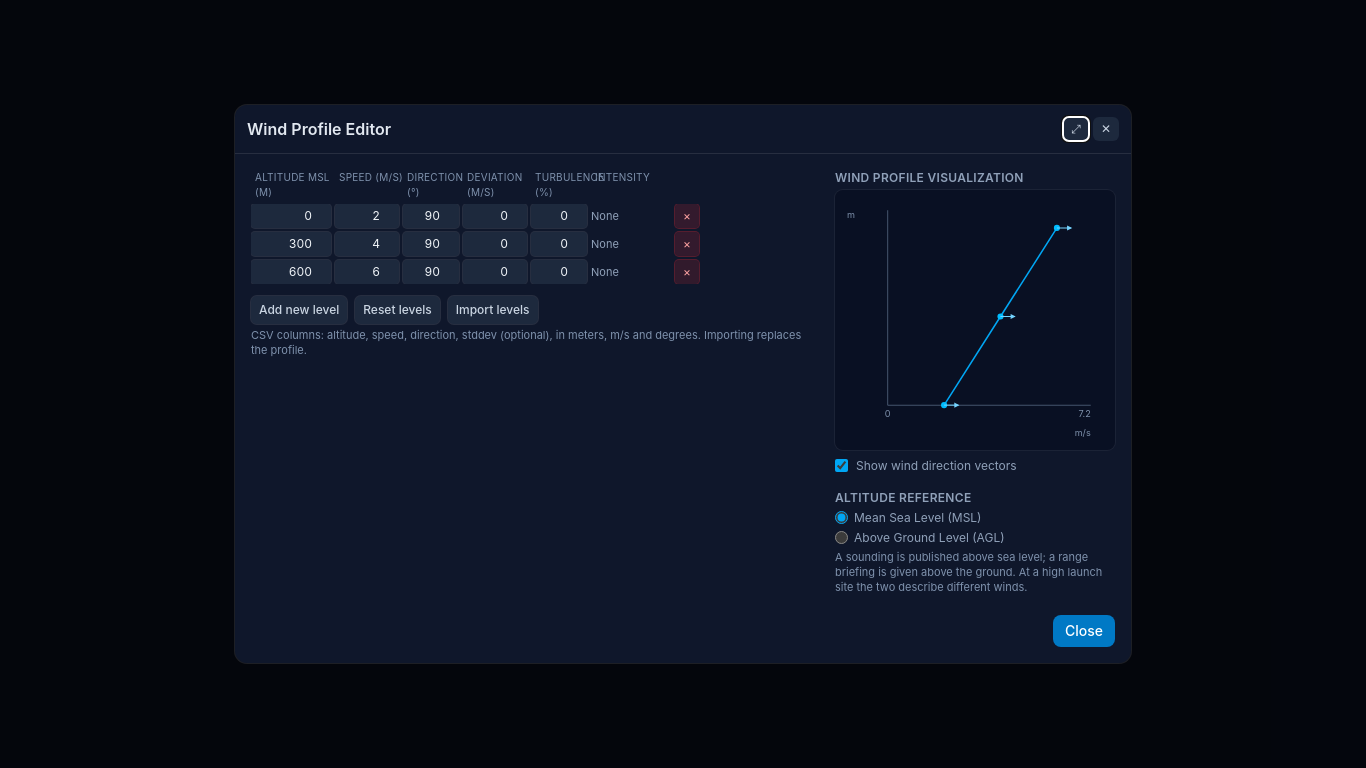
Test: WindProfileDialog rows › clears the flag when the row moves off the collision
Replace the text in the number field named "Altitude 2" with "0" at (291, 244), box [251,232,331,256]
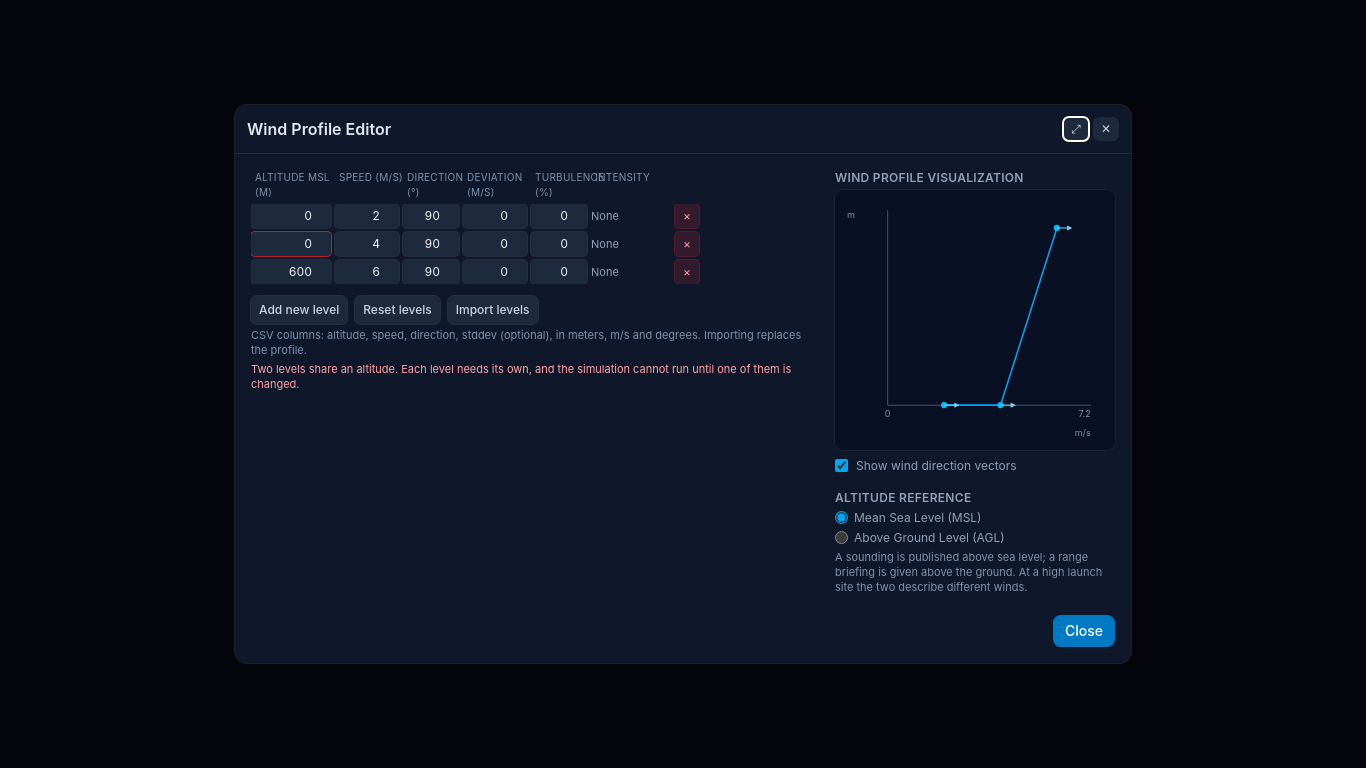
Replace the text in the number field named "Altitude 2" with "450" at (291, 244), box [251,232,331,256]
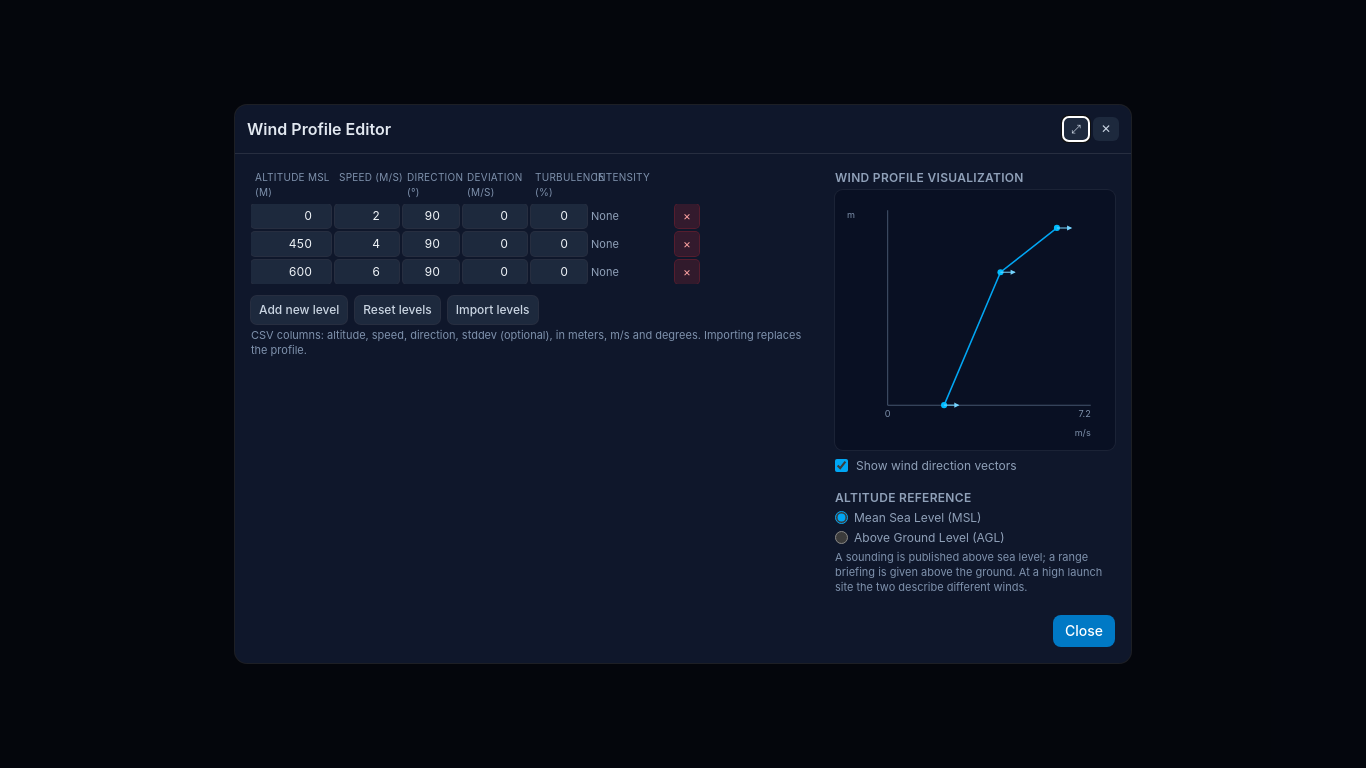
Expected: the message is gone
